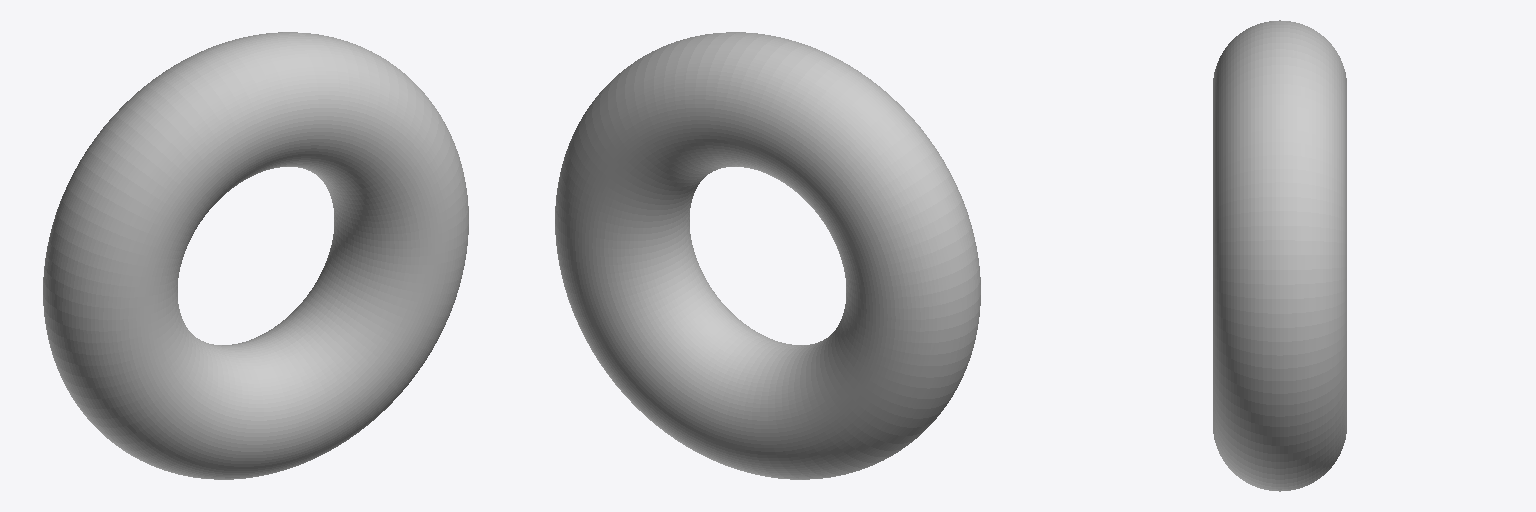
Rendered from tore.obj.
3 views of the same model, side by side, from view 1: azimuth 30°, elevation 25°; view 2: azimuth 150°, elevation 25°; view 3: azimuth 270°, elevation 25° (orthographic).
Visible parts, largest first — view 1: Object.1; view 2: Object.1; view 3: Object.1.
Part boxes in pixels (x1,y1,x2,y2): Object.1: (43, 32, 468, 479); Object.1: (555, 32, 980, 479); Object.1: (1213, 20, 1346, 491).
Bounding box in the file's own units: 70 × 70 × 20.